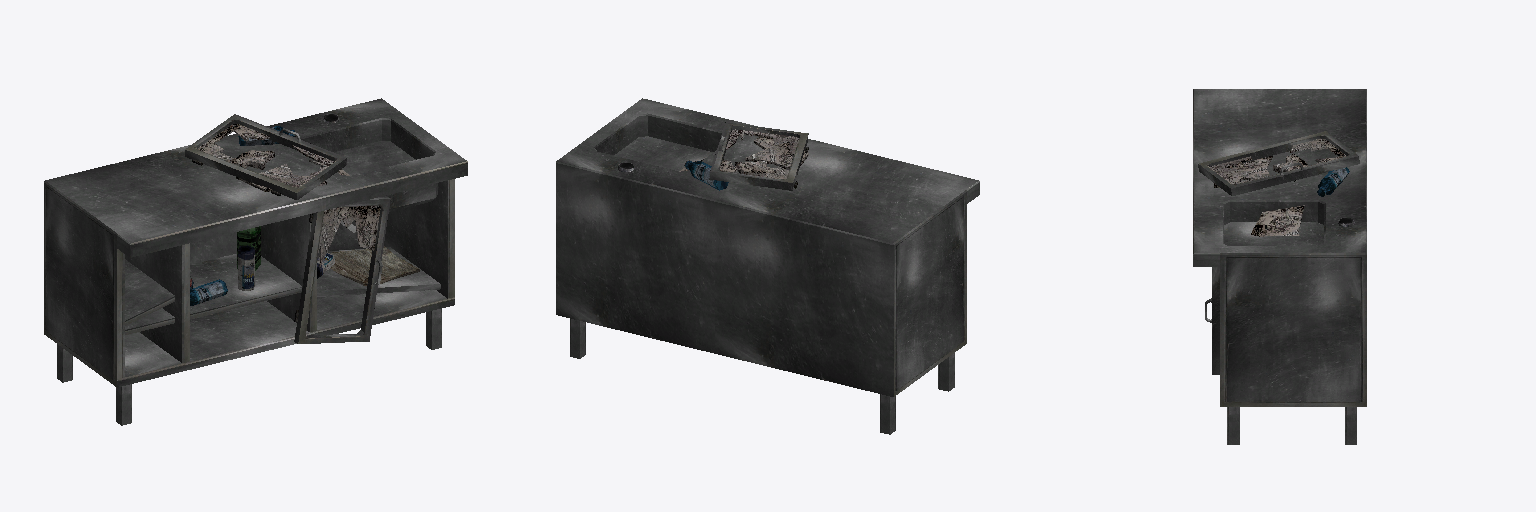
3 views of the same model, side by side, from view 1: azimuth 30°, elevation 25°; view 2: azimuth 150°, elevation 25°; view 3: azimuth 270°, elevation 25° (orthographic).
Visible parts, largest first — view 1: table03_mon_uni06_ag; view 2: table03_mon_uni06_ag; view 3: table03_mon_uni06_ag.
Boxes of the visible parts, x1,y1,x2,y2 form: table03_mon_uni06_ag: [44, 98, 467, 425]; table03_mon_uni06_ag: [556, 98, 979, 434]; table03_mon_uni06_ag: [1193, 89, 1366, 444].
Size of the model in its own units: 180 by 113 by 80.
2 materials, 2 textured.